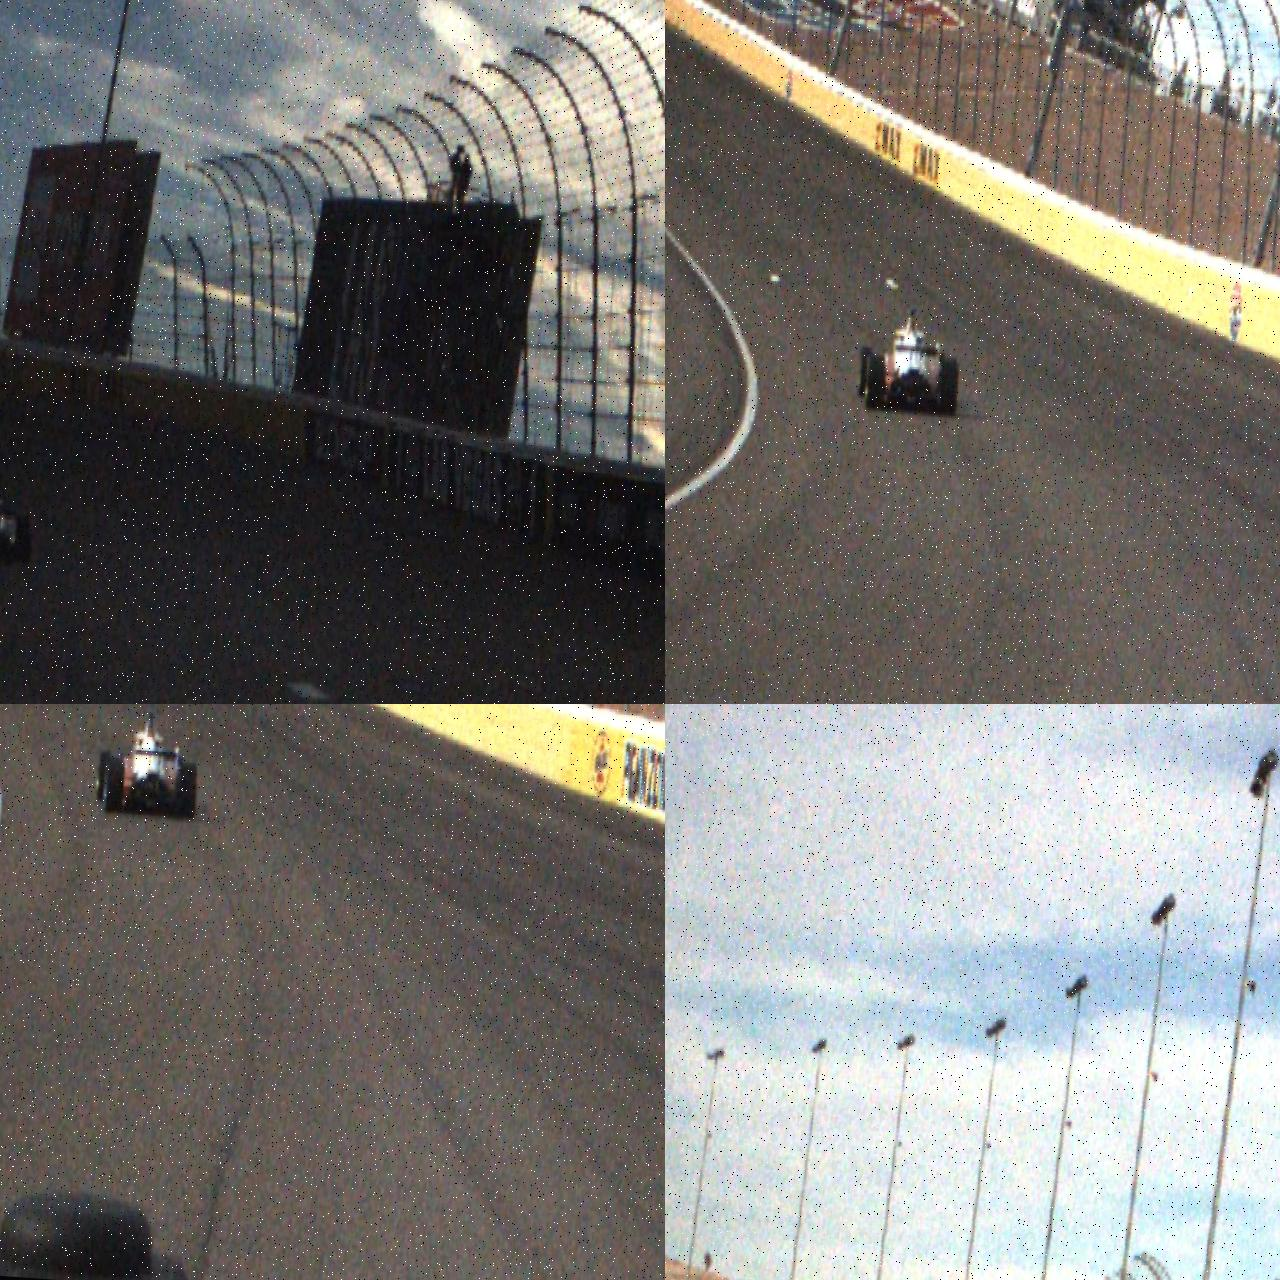AV: (855, 300, 965, 418), (93, 704, 203, 821), (0, 480, 37, 574)
Wheel: (938, 357, 961, 416), (103, 757, 126, 816), (178, 762, 200, 822), (864, 354, 886, 411), (95, 748, 113, 802), (856, 345, 874, 398), (15, 517, 34, 565)
